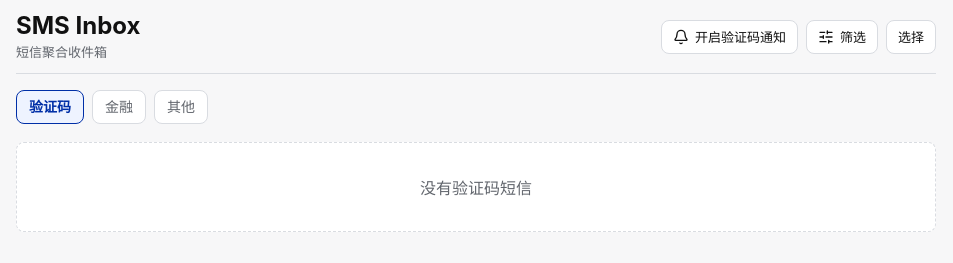
Test case: InboxApp › ignores stale visible responses from previous filters
The image size is (953, 263).
Click the button "金融": (119, 107) [92,90,146,124]
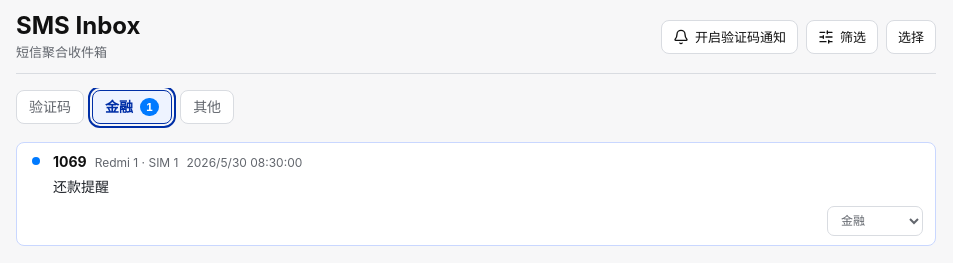
expect the text "还款提醒" is shown: met, box [53,178,109,195]
